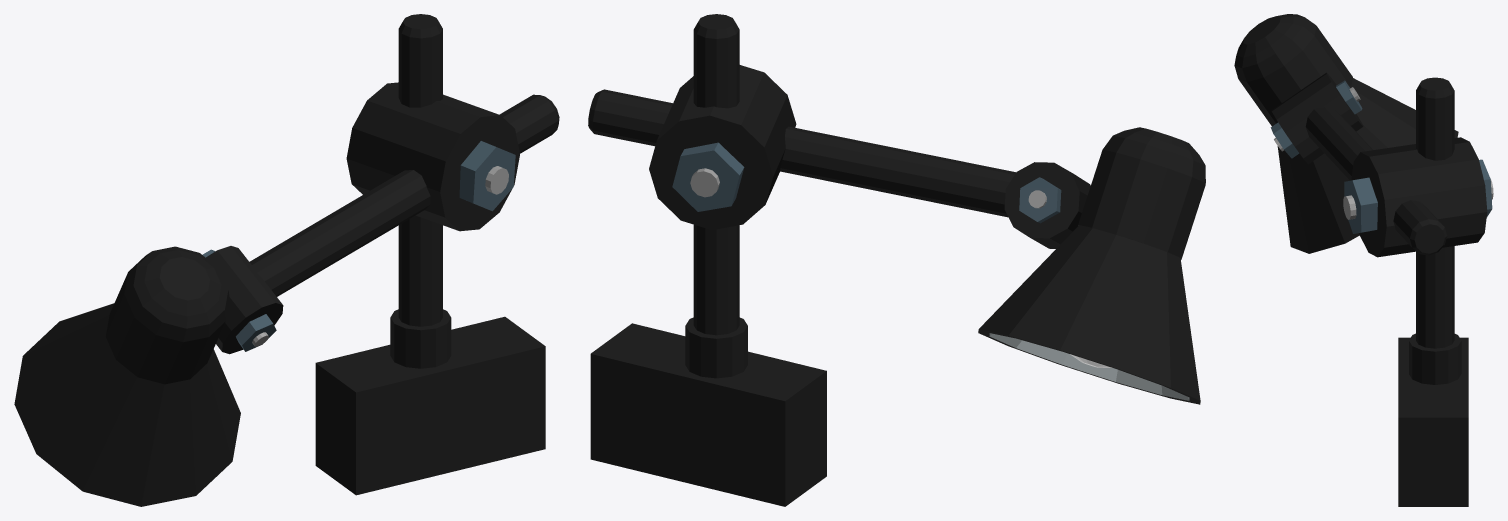
The model's file is group235934381_lev3.002.glb.
3 views of the same model, side by side, from view 1: azimuth 30°, elevation 25°; view 2: azimuth 150°, elevation 25°; view 3: azimuth 270°, elevation 25° (orthographic). The views are drawn at different scales.
Visible parts, largest first — view 1: group235934381_lev3.002; view 2: group235934381_lev3.002; view 3: group235934381_lev3.002.
Boxes of the visible parts, bbox=[...] form: group235934381_lev3.002: bbox=[14, 14, 559, 506]; group235934381_lev3.002: bbox=[588, 14, 1205, 506]; group235934381_lev3.002: bbox=[1234, 14, 1493, 506].
Size of the model in its own units: 5.6 by 4.21 by 2.61.
